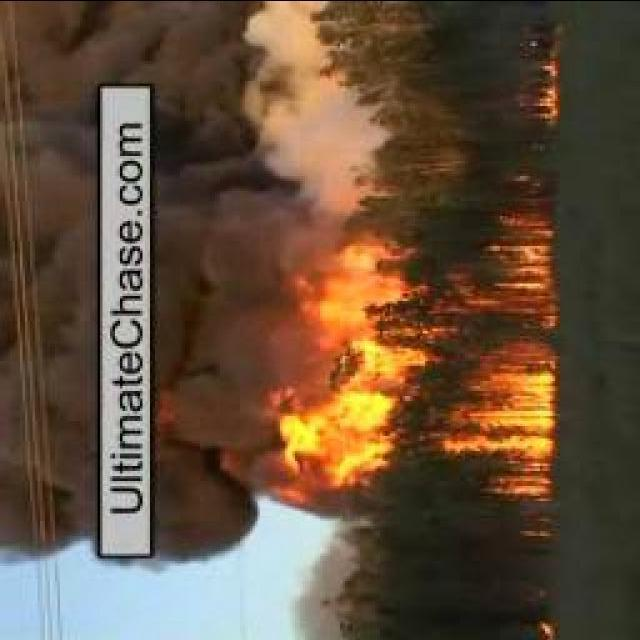Fire: (281, 218, 558, 492), (528, 38, 562, 129)
